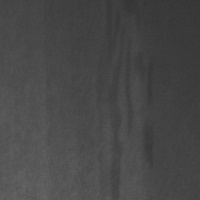inclusion: (101, 1, 133, 199), (135, 52, 158, 171)
